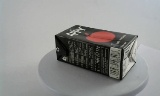appy: (50, 23, 130, 80)
